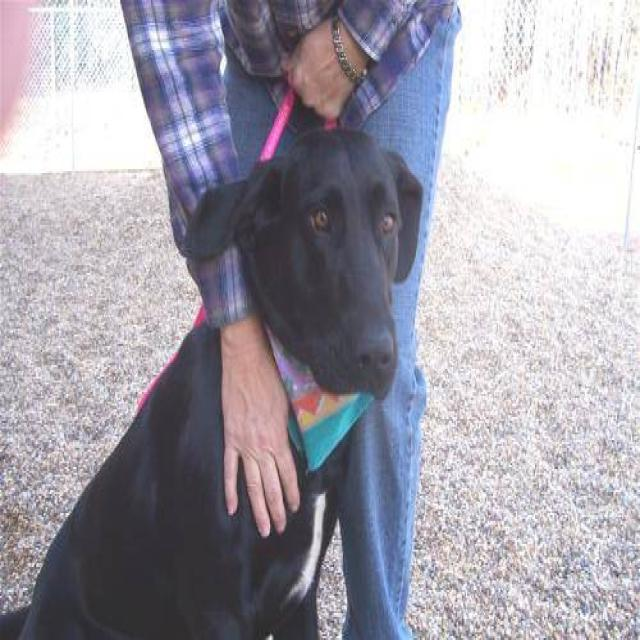dog: (1, 123, 424, 638)
